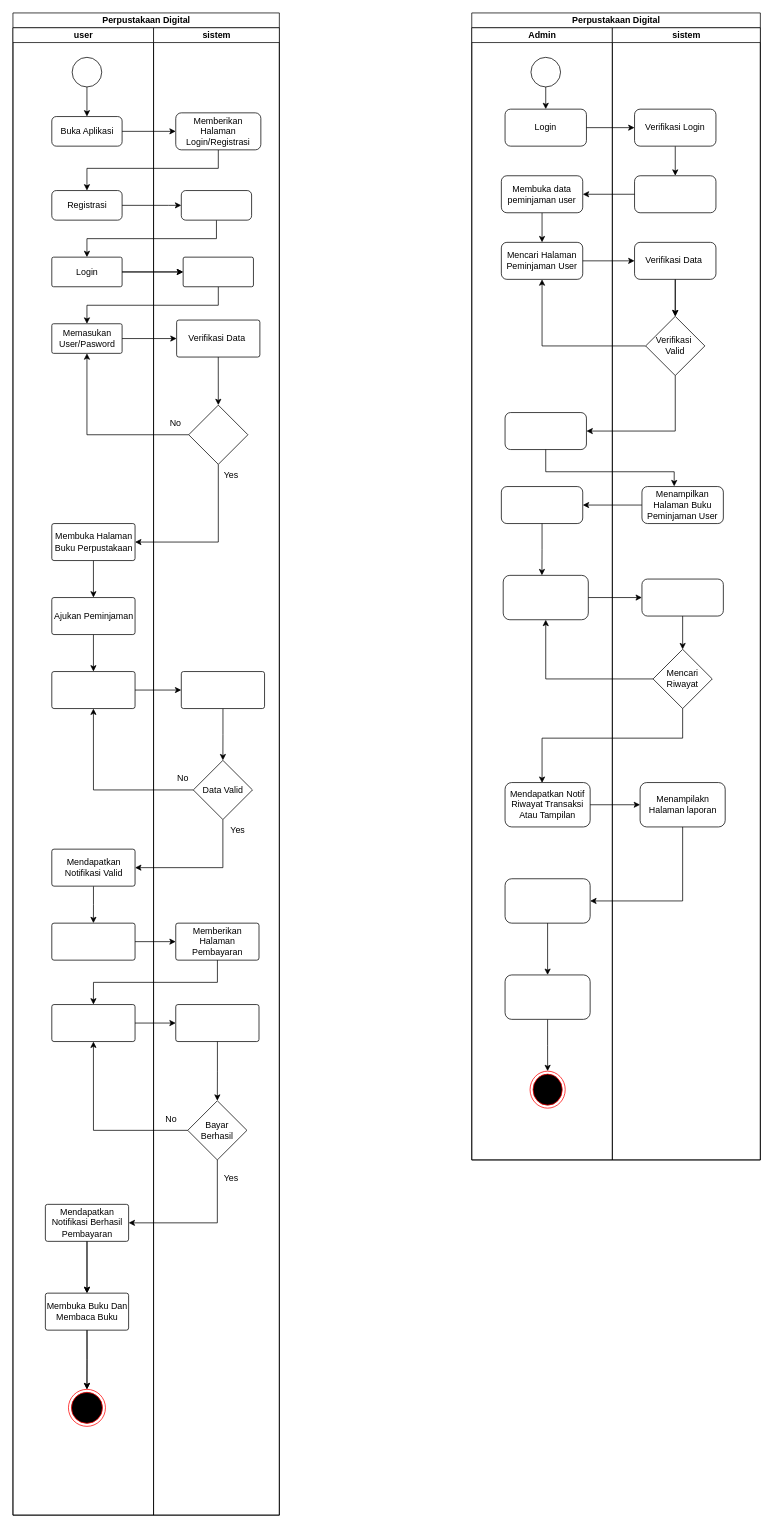
The diagram is 773 pixels wide and 1528 high, and some of its shapes have lost their labels. Here are the shapes that lost their labels. From the top down, the centre of each, then its label:
the point at 216,205: Menampilkan Halaman Registrasi
the point at 675,194: Memberikan Halaman Admin
the point at 217,271: Halaman Login
the point at 218,434: Cek Verif
the point at 545,431: Menerima Notifikasi Ditemukan
the point at 542,505: Mengecek Buku Yang dipinjam User
the point at 545,597: Melakukan Verifikasi Riwayat Transaksi User
the point at 682,597: Menverifikasi Riwayat
the point at 93,690: Isi Data DIri
the point at 223,690: Memeriksa Data User
the point at 547,900: Melihat Laporan Dan Layanan
the point at 93,941: Membuka Pembayaran lisensi
the point at 547,996: Mengelola Buku
the point at 93,1023: Melakukan Pembayaran
the point at 217,1023: Verifikasi Pembayaran
